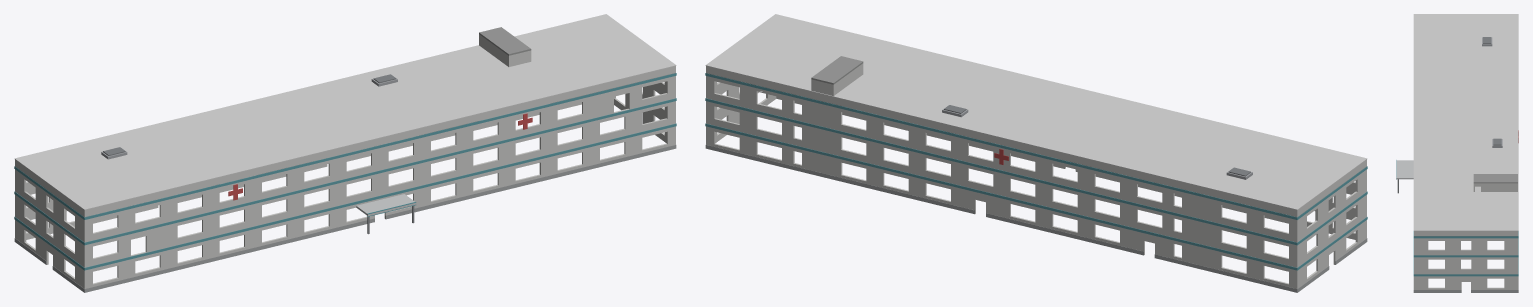
Rendered from hosp-main.plinth-v1.lod1.glb.
3 views of the same model, side by side, from view 1: azimuth 30°, elevation 25°; view 2: azimuth 150°, elevation 25°; view 3: azimuth 270°, elevation 25° (orthographic). The views are drawn at different scales.
Parts seen in each view (by area): view 1: hosp-main; view 2: hosp-main; view 3: hosp-main.
Part boxes in pixels (bbox=[...]): hosp-main: bbox=[14, 14, 676, 292]; hosp-main: bbox=[705, 14, 1367, 292]; hosp-main: bbox=[1396, 14, 1518, 292].
Size of the model in its own units: 98.12 by 15.26 by 23.49.
